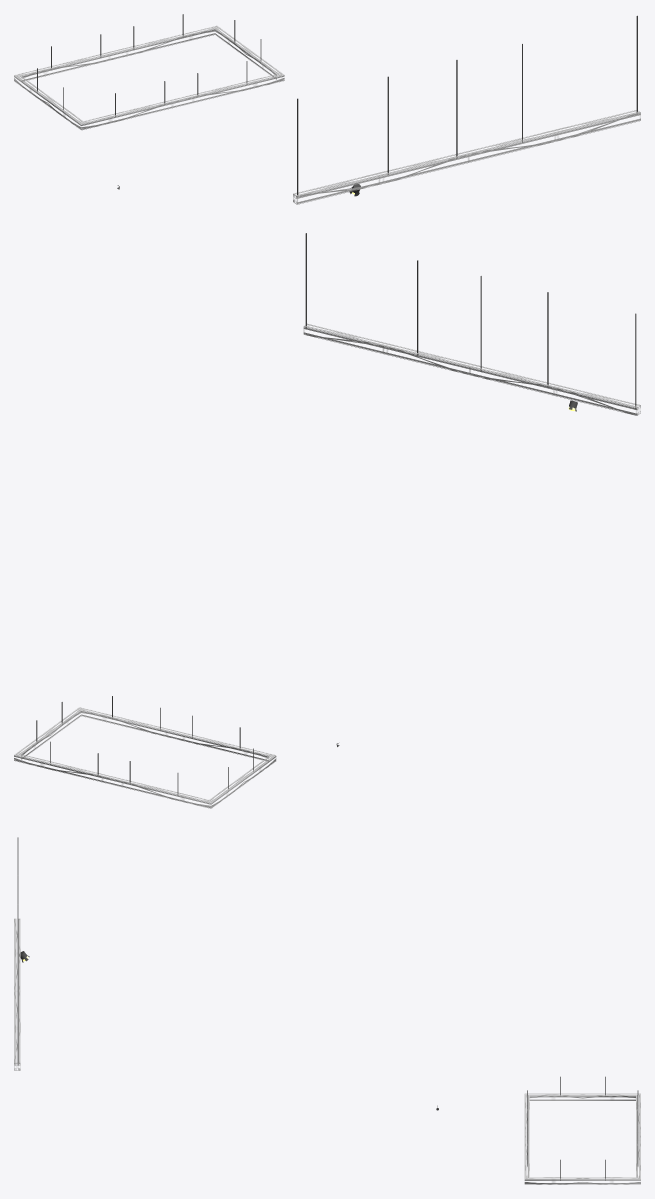
File: luces.glb
3 views of the same model, one above another, from view 1: azimuth 30°, elevation 25°; view 2: azimuth 150°, elevation 25°; view 3: azimuth 270°, elevation 25° (orthographic). The views are drawn at different scales.
Visible parts, largest first — view 1: LIGHTS SUPPORT002, LIGHTS SUPPORT; view 2: LIGHTS SUPPORT002, LIGHTS SUPPORT; view 3: LIGHTS SUPPORT002, LIGHTS SUPPORT.
Part boxes in pixels (bbox=[...]): LIGHTS SUPPORT002: bbox=[14, 14, 284, 130]; LIGHTS SUPPORT: bbox=[293, 15, 640, 204]; LIGHTS SUPPORT002: bbox=[14, 696, 276, 808]; LIGHTS SUPPORT: bbox=[303, 233, 640, 415]; LIGHTS SUPPORT002: bbox=[524, 1076, 640, 1184]; LIGHTS SUPPORT: bbox=[14, 837, 20, 1070].
Bounding box in the file's own units: 21.86 × 17.3 × 39.98.
Materials: 3 (1 with a texture image).
